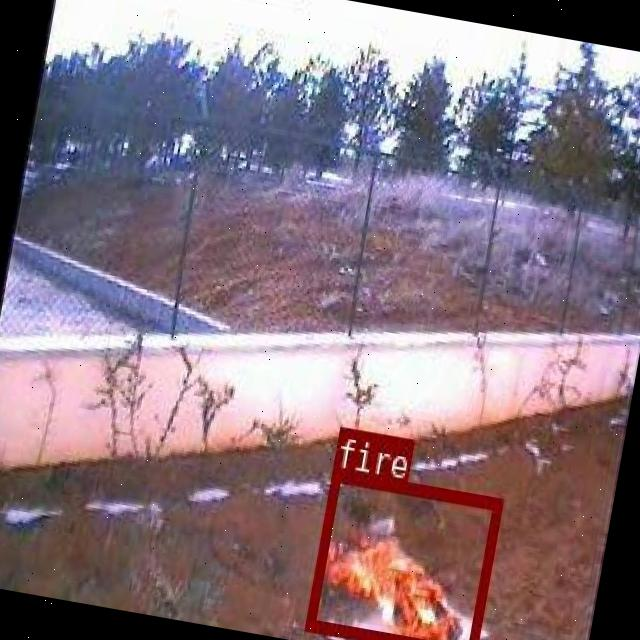fire: (304, 466, 502, 640)
